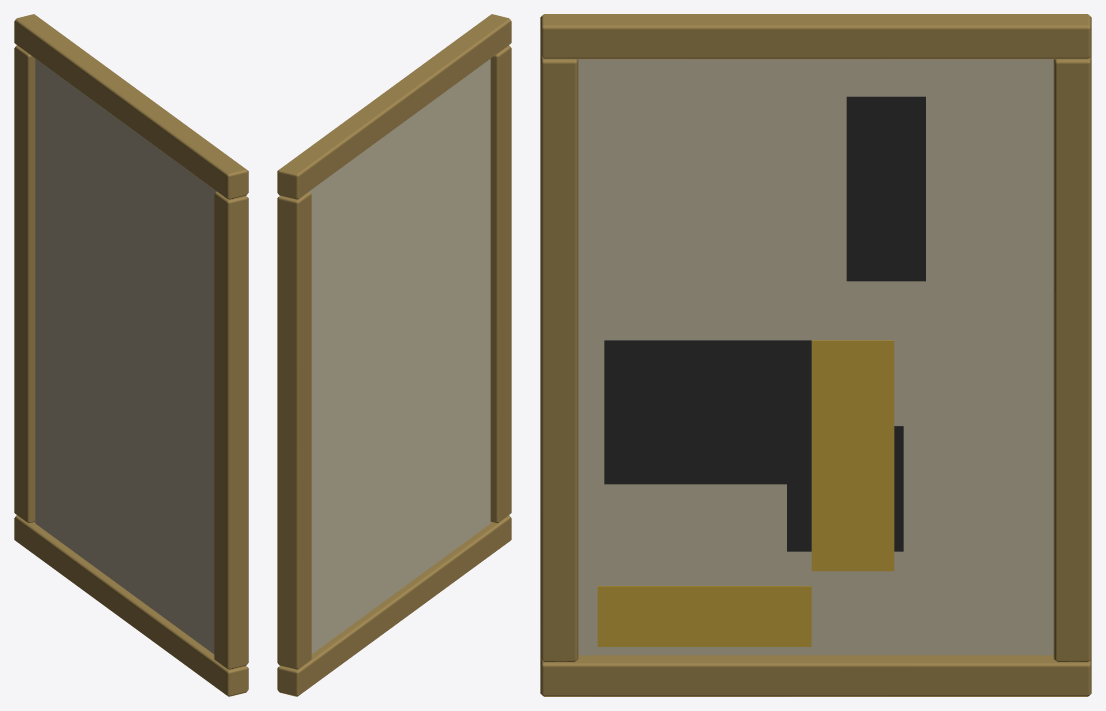
The model's file is painting_f.glb.
3 views of the same model, side by side, from view 1: azimuth 30°, elevation 25°; view 2: azimuth 150°, elevation 25°; view 3: azimuth 270°, elevation 25° (orthographic). The views are drawn at different scales.
Visible parts, largest first — view 1: grund, rahmen_r, rahmen_l, rahmen_o, rahmen_u; view 2: grund, rahmen_l, rahmen_r, rahmen_o, rahmen_u; view 3: grund, feld2, rahmen_o, rahmen_l, rahmen_r, rahmen_u, feld4, feld3, feld0, feld1.
Part boxes in pixels (box(x1,y1,x2,y2)): grund: box(35, 59, 216, 653); rahmen_r: box(214, 192, 248, 669); rahmen_l: box(14, 45, 35, 523); rahmen_o: box(14, 14, 248, 199); rahmen_u: box(14, 515, 248, 696); grund: box(309, 59, 490, 653); rahmen_l: box(277, 192, 311, 669); rahmen_r: box(490, 45, 511, 523); rahmen_o: box(277, 14, 511, 199); rahmen_u: box(277, 515, 511, 696); grund: box(578, 59, 1053, 655); feld2: box(604, 340, 811, 484); rahmen_o: box(540, 14, 1091, 59); rahmen_l: box(1053, 56, 1091, 662); rahmen_r: box(540, 56, 578, 662); rahmen_u: box(540, 655, 1091, 696); feld4: box(811, 340, 894, 571); feld3: box(846, 96, 925, 281); feld0: box(597, 586, 811, 646); feld1: box(787, 426, 903, 551).
Size of the model in its own units: 0.035 by 0.78 by 0.58.
